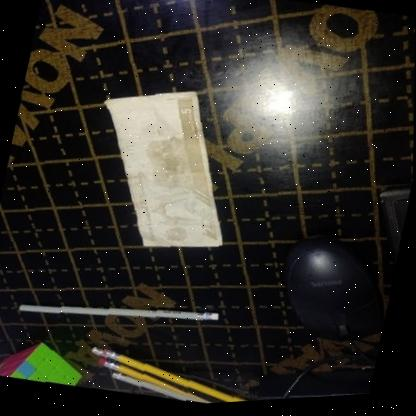five-back-vef: (72, 71, 255, 266)
